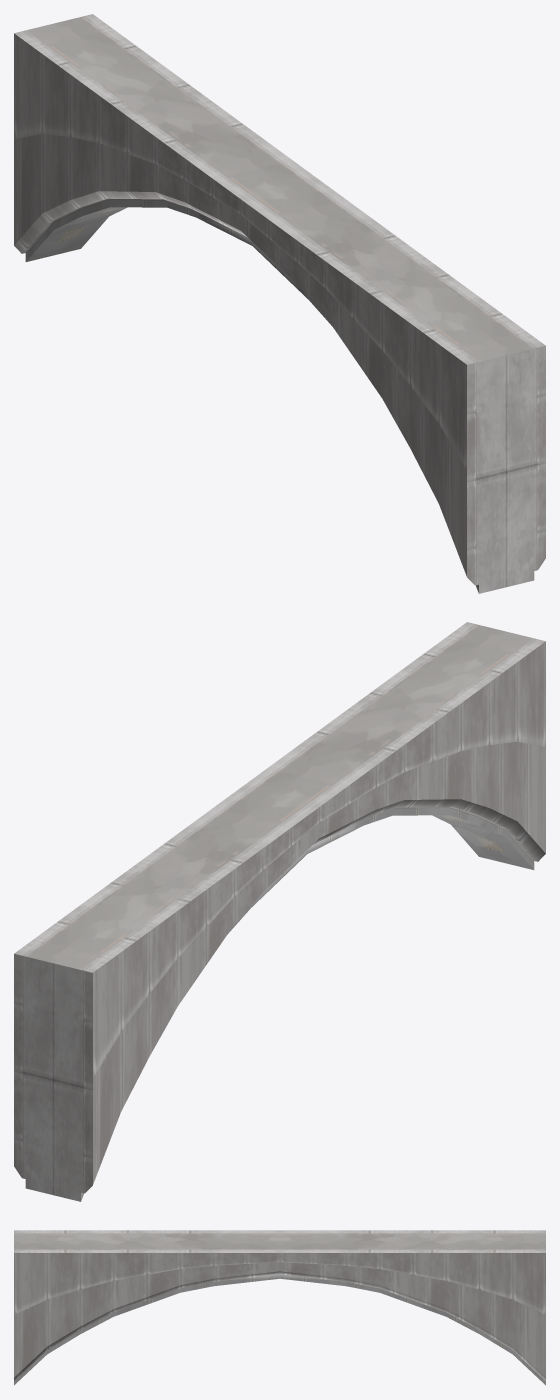
File: CurveDouble.fbx
The picture shows the model from 3 angles, top to bottom: view 1: azimuth 30°, elevation 25°; view 2: azimuth 150°, elevation 25°; view 3: azimuth 270°, elevation 25°; orthographic projection. The views are drawn at different scales.
Parts seen in each view (by area): view 1: CurveDouble; view 2: CurveDouble; view 3: CurveDouble.
Boxes of the visible parts, x1,y1,x2,y2 form: CurveDouble: (14, 14, 545, 593); CurveDouble: (14, 622, 545, 1201); CurveDouble: (14, 1230, 545, 1385).
Bounding box in the file's own units: 175 × 491 × 1738.
